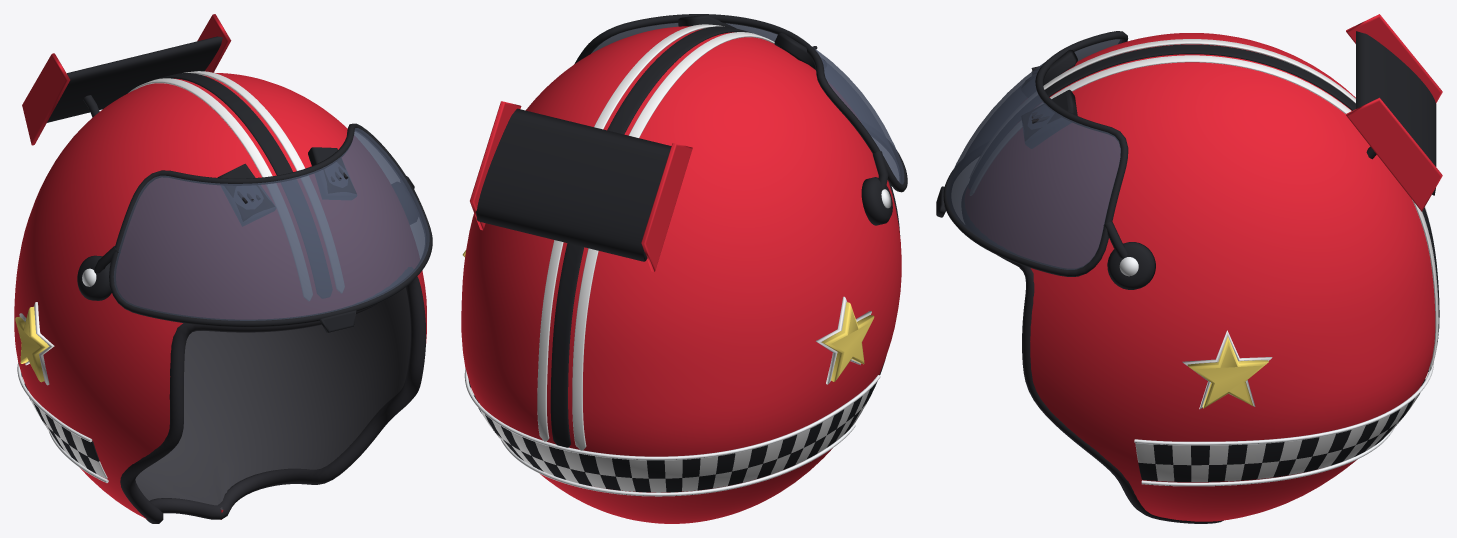
Rendered from race.glb.
The picture shows the model from 3 angles, left to right: view 1: azimuth 30°, elevation 25°; view 2: azimuth 150°, elevation 25°; view 3: azimuth 270°, elevation 25°; orthographic projection. The views are drawn at different scales.
Visible parts, largest first — view 1: race_body, glass_race_visor; view 2: race_body, glass_race_visor; view 3: race_body, glass_race_visor.
Part boxes in pixels (bbox=[...]): race_body: bbox=[14, 14, 432, 523]; glass_race_visor: bbox=[113, 128, 429, 320]; race_body: bbox=[461, 14, 907, 523]; glass_race_visor: bbox=[591, 23, 904, 184]; race_body: bbox=[936, 14, 1442, 523]; glass_race_visor: bbox=[946, 39, 1121, 269].
Size of the model in its own units: 1.38 by 1.59 by 1.59.
